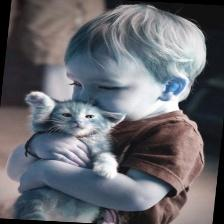kedo: (25, 91, 125, 143)
